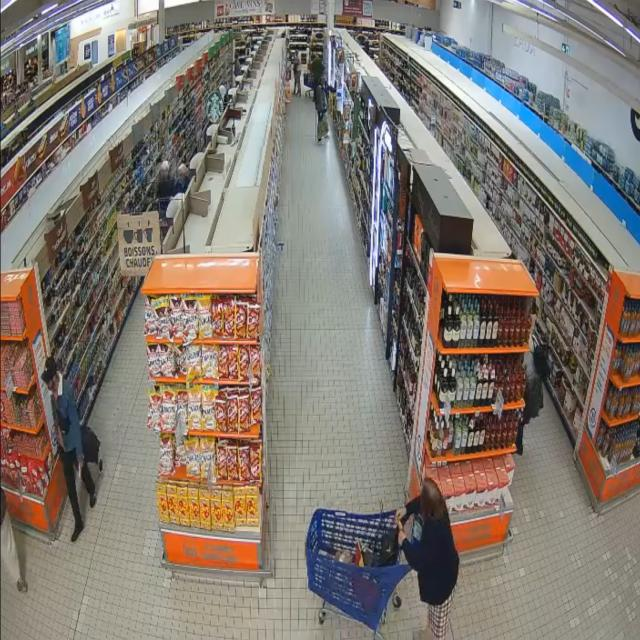article: (77, 463, 81, 479)
bags: (529, 331, 555, 376), (51, 395, 69, 434), (317, 115, 328, 140)
hands: (398, 529, 406, 545), (397, 507, 406, 521), (79, 460, 84, 469)
person: (42, 357, 96, 541), (398, 479, 459, 639), (516, 345, 550, 455), (0, 489, 27, 591), (157, 161, 174, 226), (314, 78, 328, 142), (174, 164, 191, 194)
